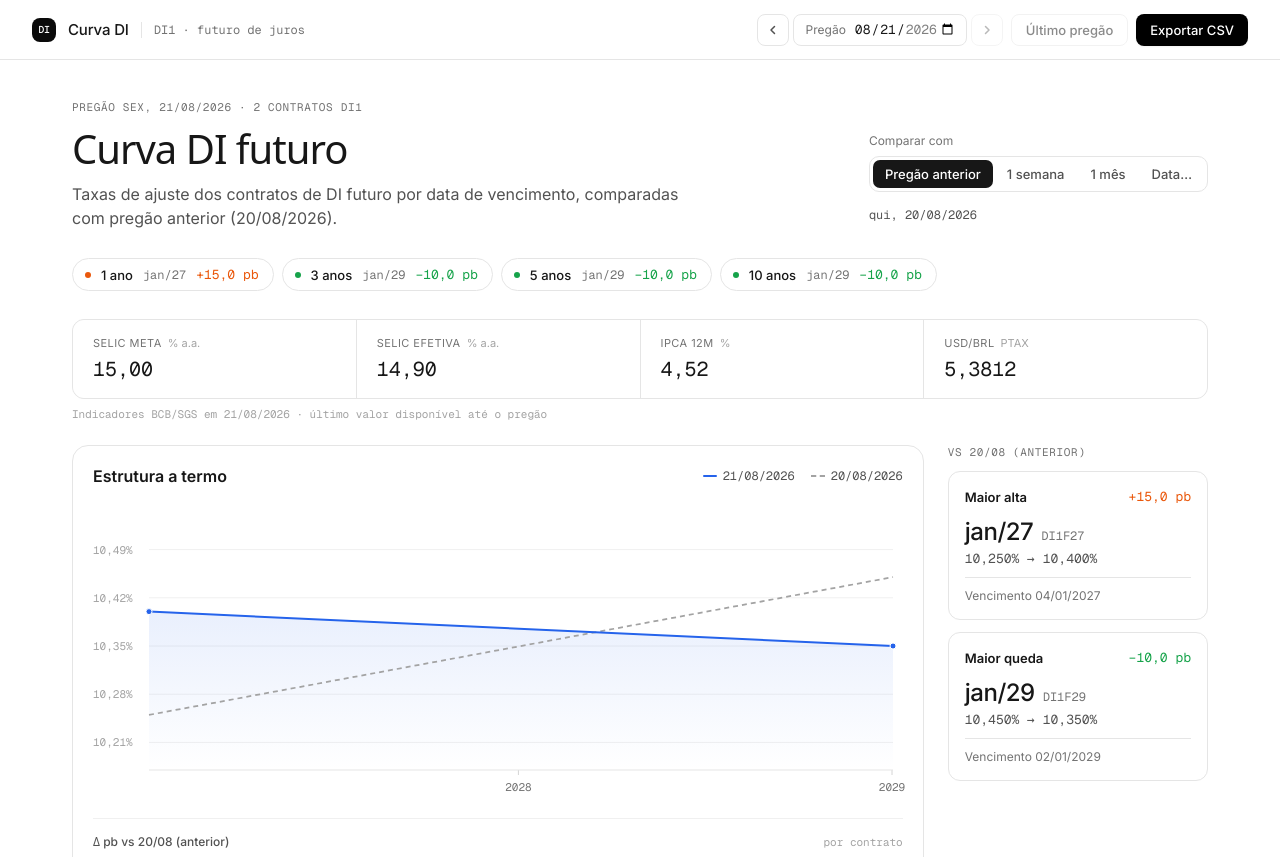
Scenario: App › base escolhida sem histórico no novo pregão cai para o pregão anterior
The width and height of the screenshot is (1280, 857).
Click the button "1 mês" at coordinates (1108, 174), box [1078,160,1138,188]
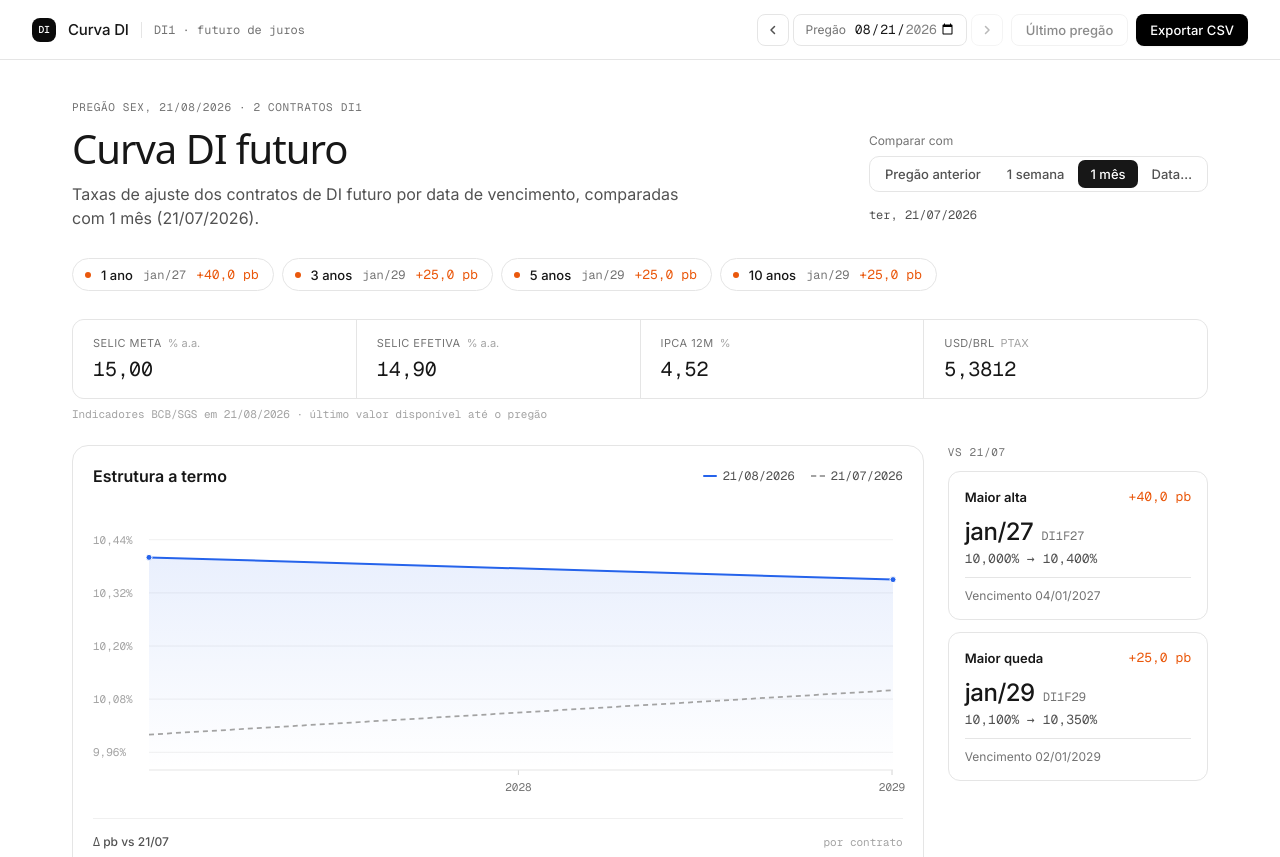
Result: the element with test id "legend-base" reads "21/07/2026" at [831,468,903,484]
Click the button named "Pregão anterior" at coordinates (773, 30), box [757,14,789,46]
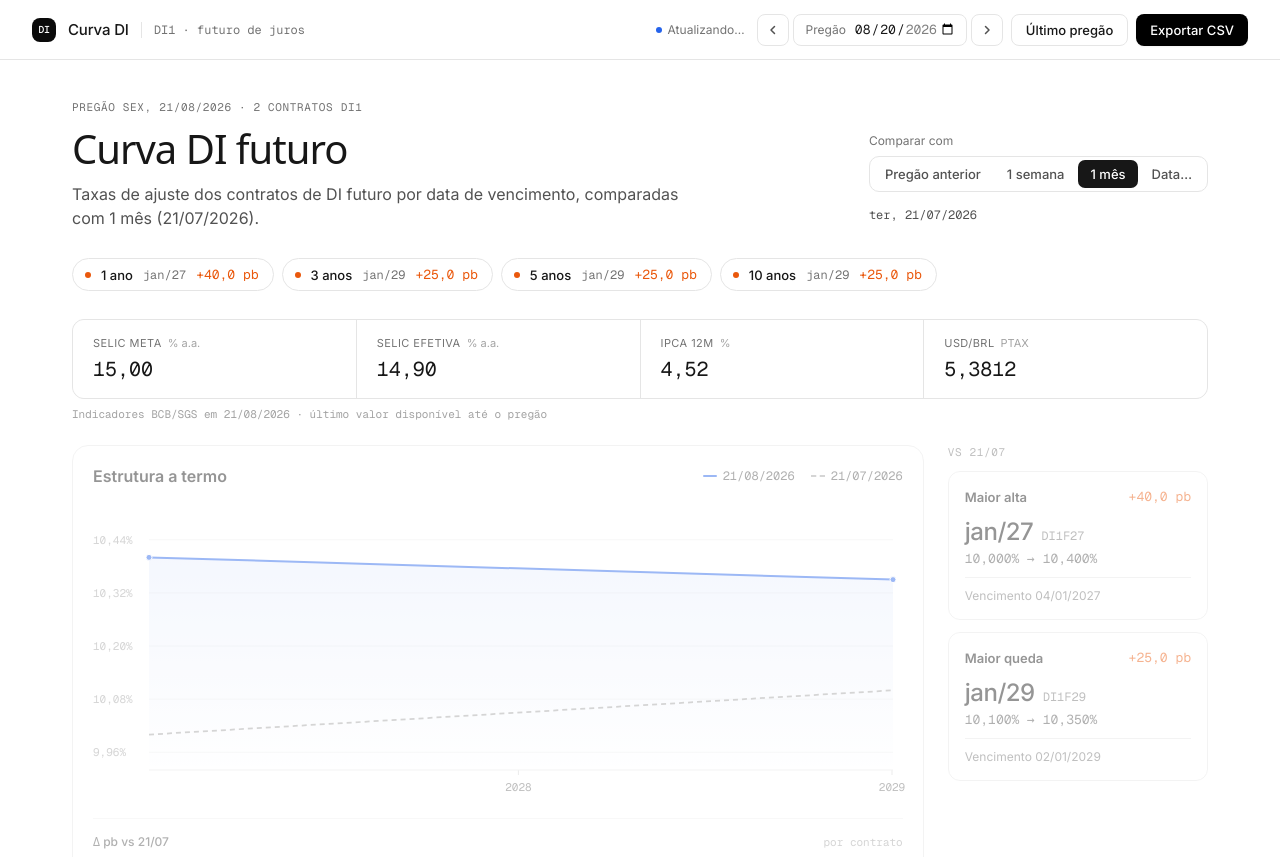
Result: the date field labelled "Pregão" holds "2026-08-20" at [854,20,956,39]
Click the button named "Pregão anterior" at coordinates (773, 30), box [757,14,789,46]
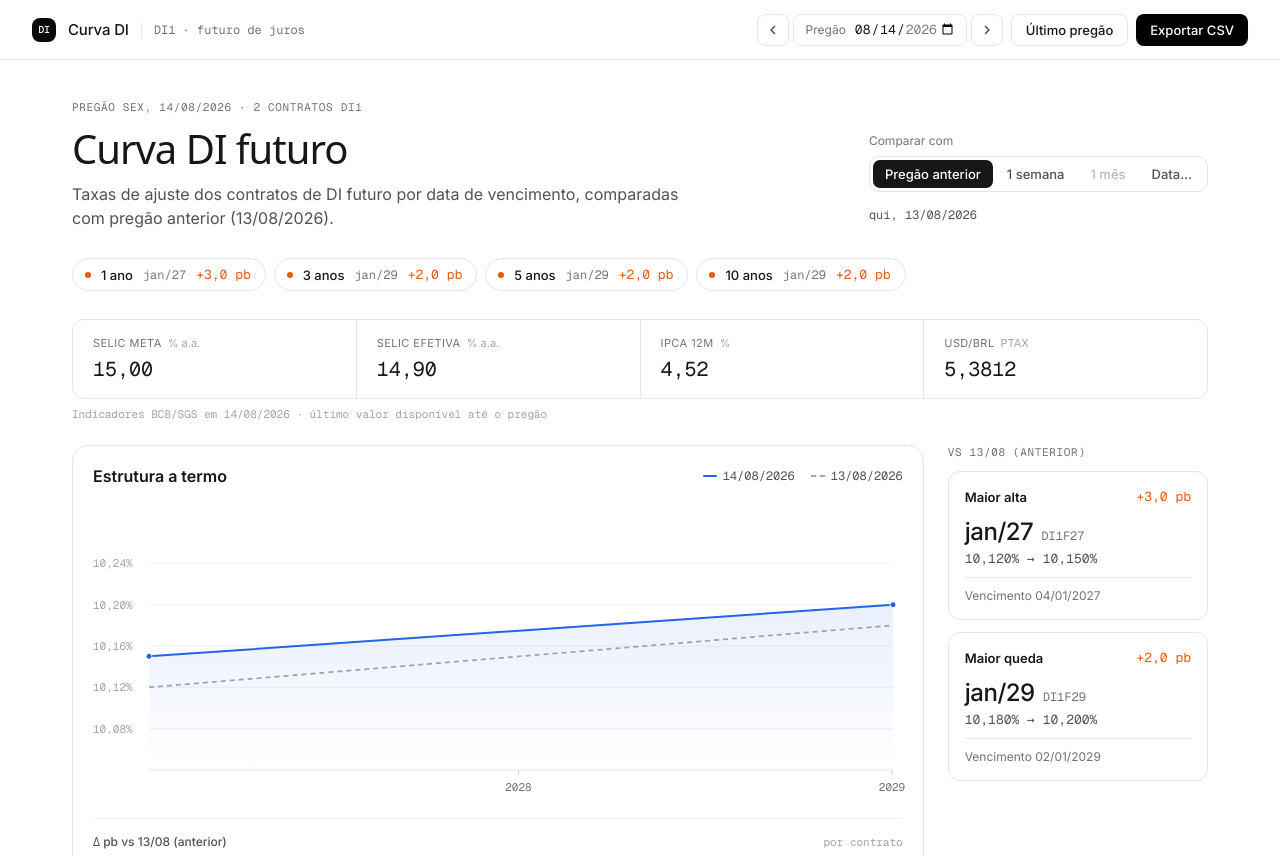
Result: the date field labelled "Pregão" holds "2026-08-14" at [854,20,956,39]
Result: the element with test id "legend-base" reads "13/08/2026" at [831,468,903,484]
Result: the button "1 mês" is disabled at [1078,160,1138,188]
